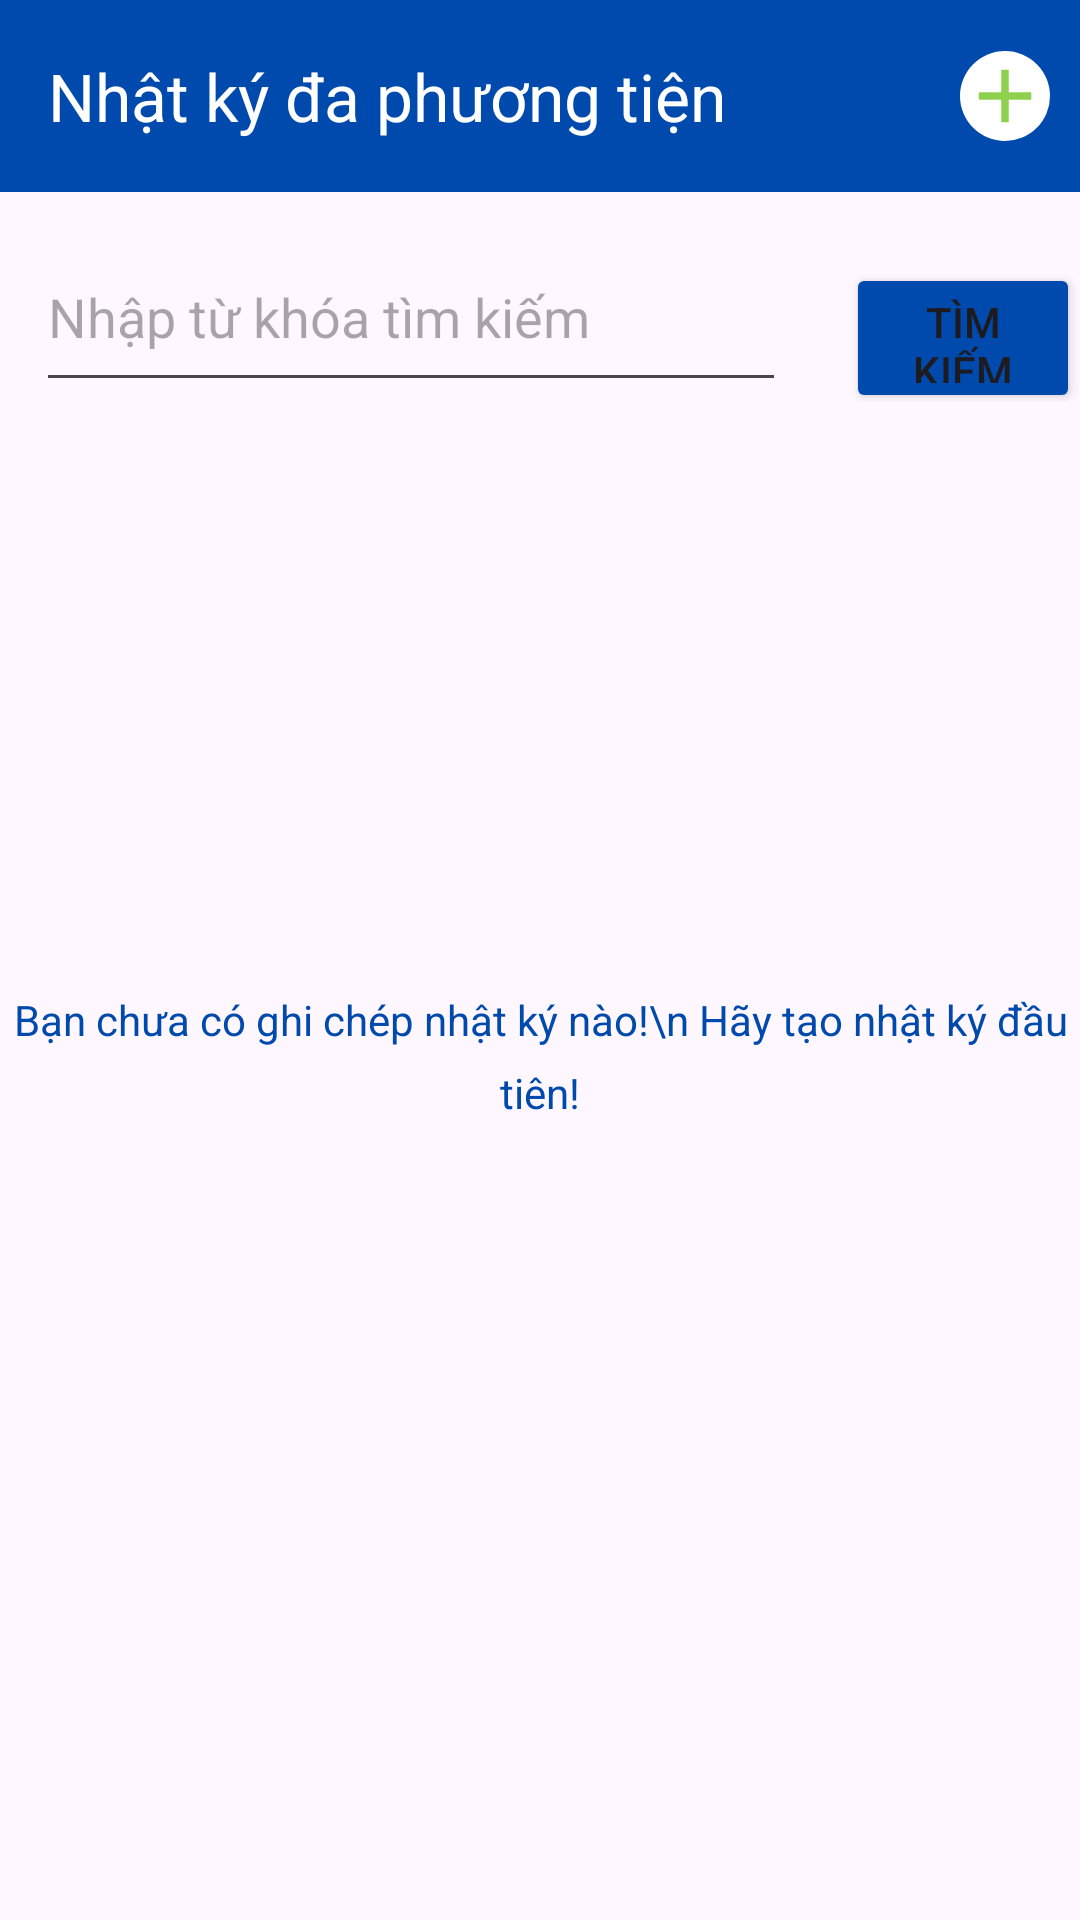

Named icons in this screenshot (1080w x 1920h) and their bounding boxes, [x1,y1,x2,y2]:
add: [960,51,1050,141]
